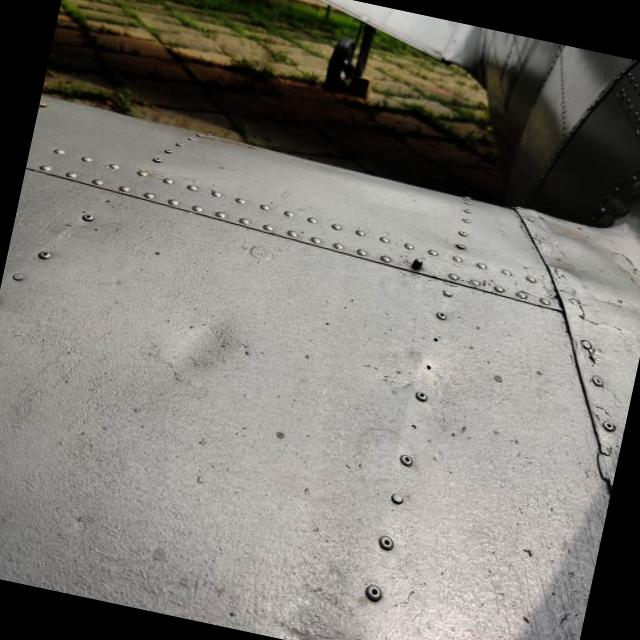dent: (130, 292, 282, 420)
